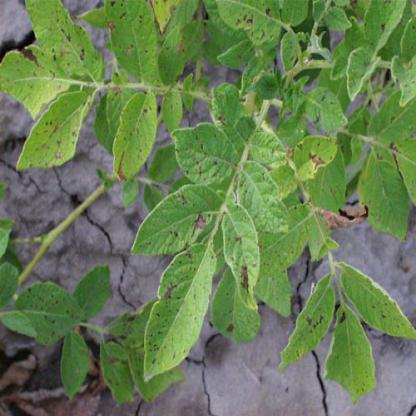potato leaf early blight: (145, 245, 217, 381), (131, 180, 223, 252), (14, 89, 92, 172), (338, 262, 415, 344), (275, 272, 337, 371), (112, 90, 158, 185), (330, 304, 371, 408), (222, 203, 260, 308), (290, 131, 340, 180)
